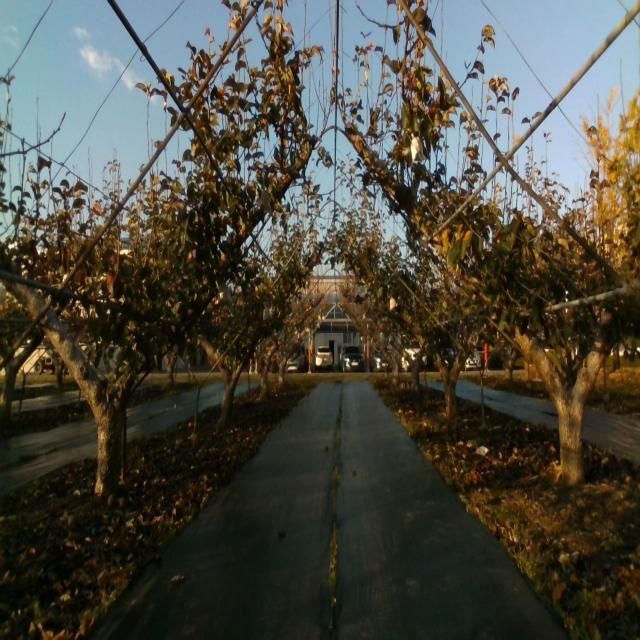pearbags: (410, 132, 426, 161), (256, 189, 272, 212), (216, 284, 232, 306)
